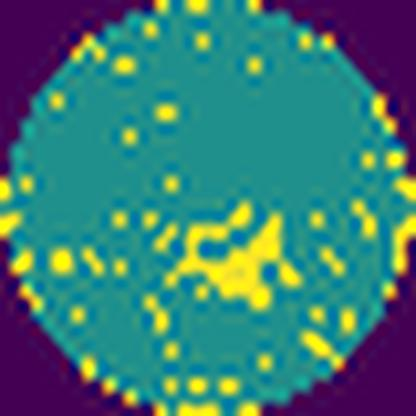Loc: (160, 206, 301, 305)
